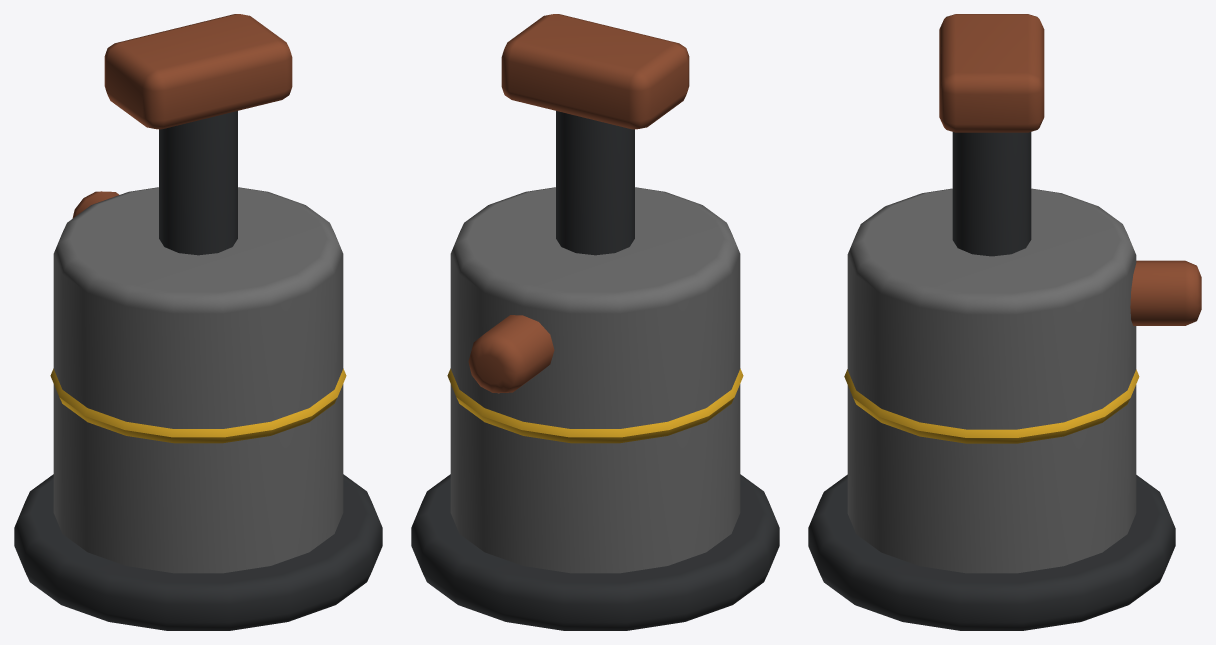
The model's file is s-piston.glb.
3 renders of one model, left to right at view 1: azimuth 30°, elevation 25°; view 2: azimuth 150°, elevation 25°; view 3: azimuth 270°, elevation 25°, orthographic.
Visible parts, largest first — view 1: s-piston; view 2: s-piston; view 3: s-piston.
Part boxes in pixels (box(x1,y1,x2,y2)): s-piston: box(14, 14, 382, 630); s-piston: box(411, 14, 779, 630); s-piston: box(808, 14, 1201, 630).
Bounding box in the file's own units: 0.5515 × 0.87 × 0.6.
